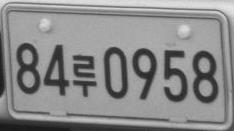0: (103, 45, 128, 100)
4: (43, 43, 70, 95)
5: (162, 49, 188, 102)
8: (191, 49, 219, 104), (15, 41, 41, 95)
9: (131, 46, 157, 99)
루: (72, 54, 97, 97)
